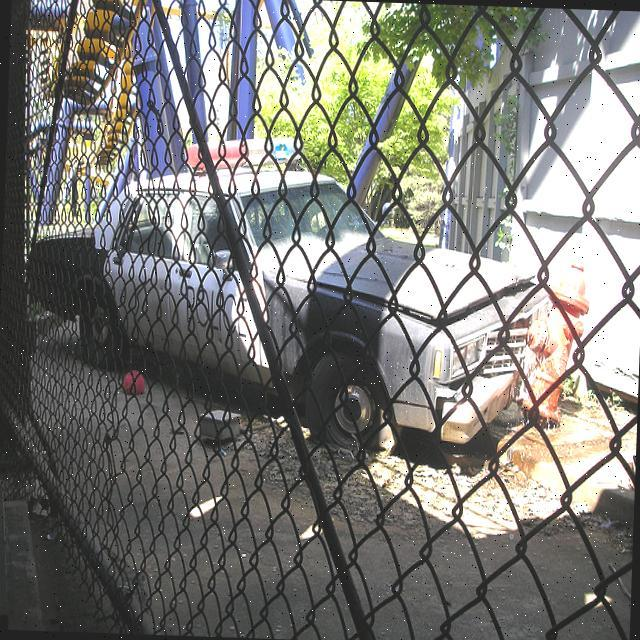fire_hydrant: (520, 255, 592, 428)
